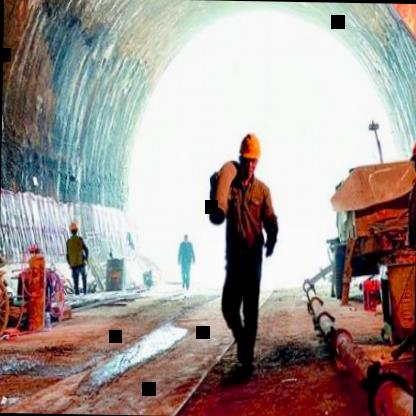helmet: (237, 130, 265, 180), (409, 135, 416, 181)
